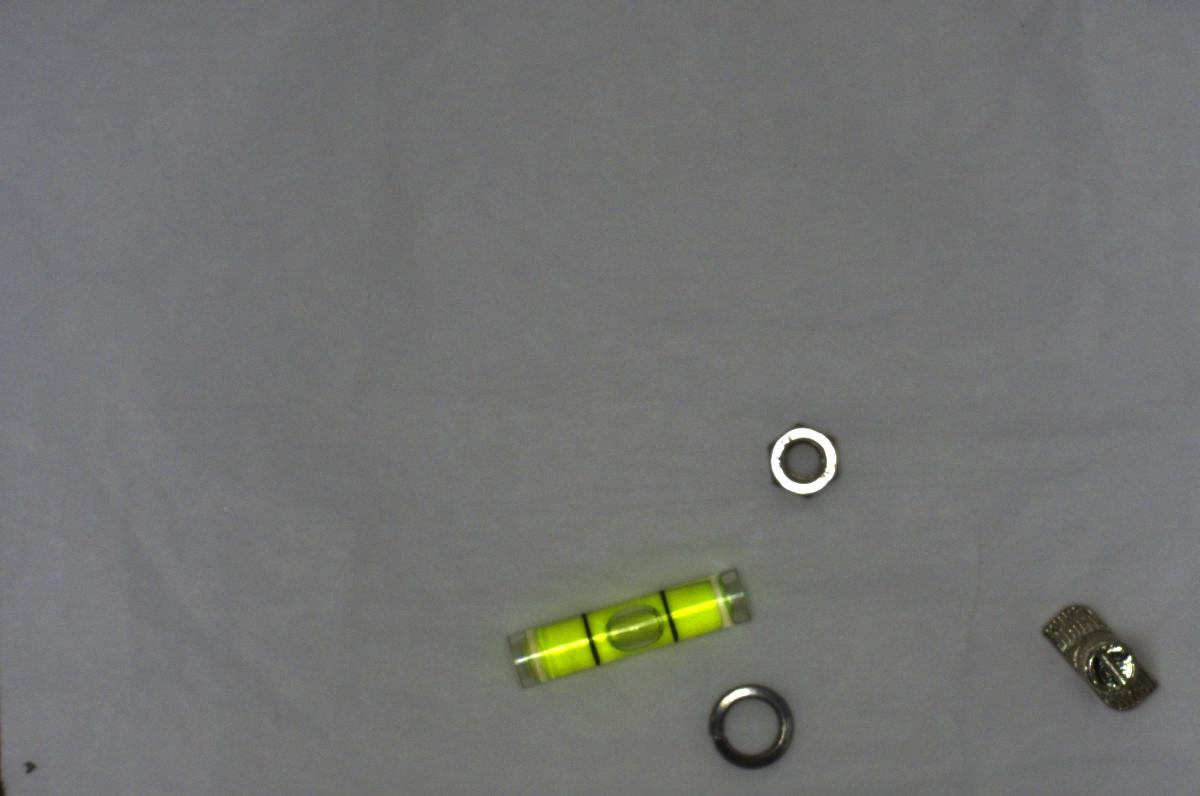Hexagon nut: (750, 413, 845, 513)
Horizontal bubble: (482, 553, 761, 694)
Spring washer: (700, 681, 805, 774)
T-shaped screw: (1035, 590, 1164, 723)
